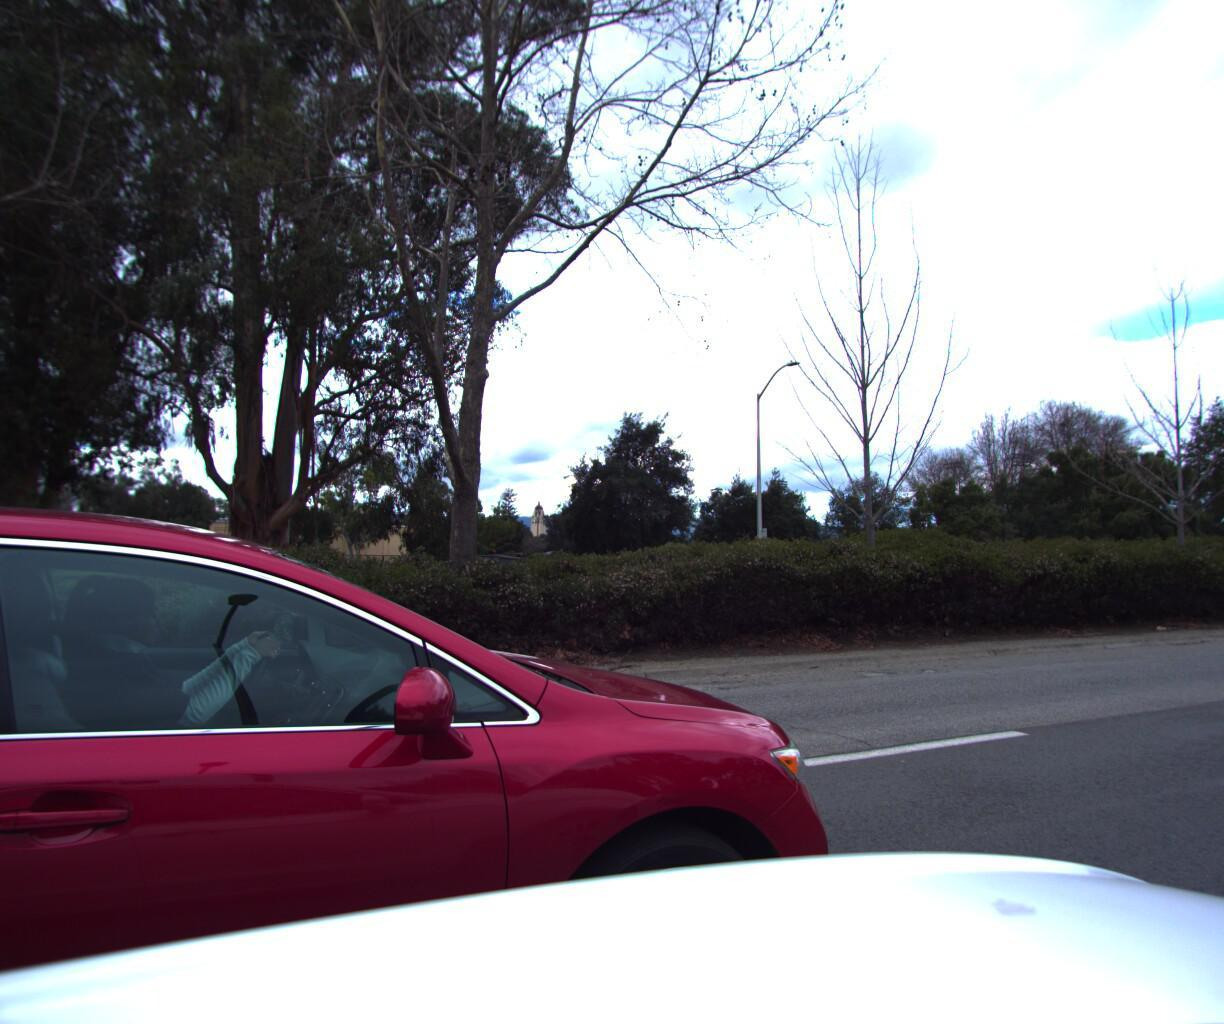car: (0, 329, 927, 1024), (365, 544, 532, 604)
